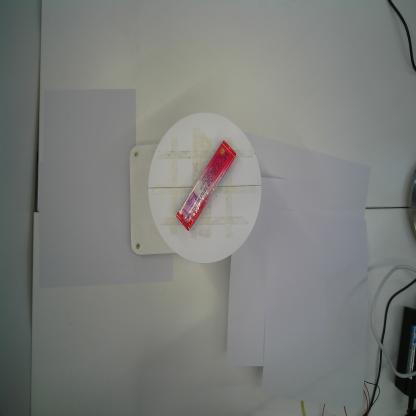Candy: (176, 140, 236, 231)
